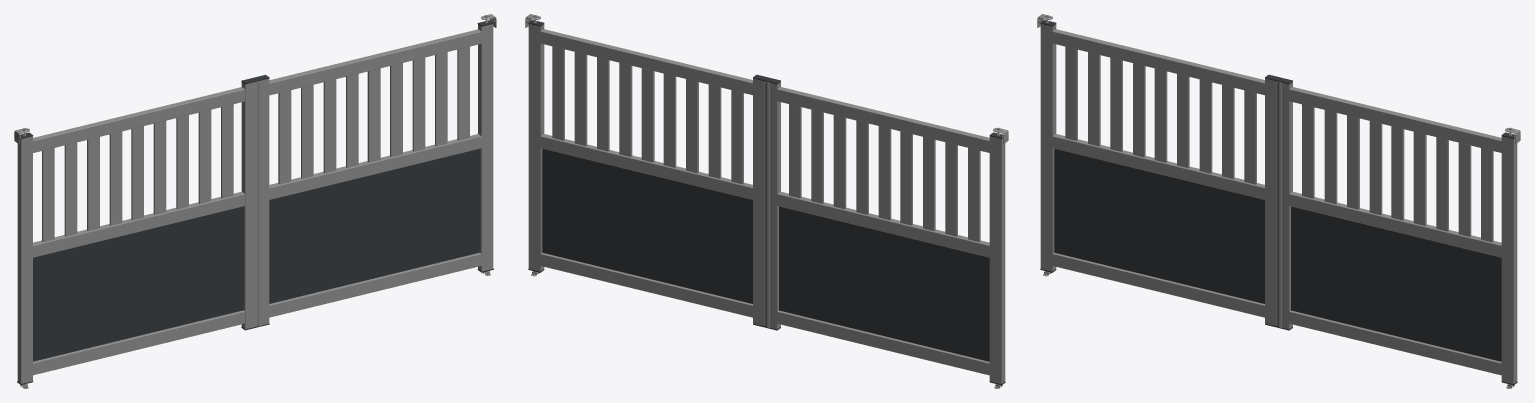
3 views of the same model, side by side, from view 1: azimuth 30°, elevation 25°; view 2: azimuth 150°, elevation 25°; view 3: azimuth 330°, elevation 25° (orthographic).
Parts seen in each view (by area): view 1: Chapa Alucobond028, Chapa Alucobond042, Shape107412643, Shape107412740, Shape107412638, Shape107412804, Shape107412686, travessa_central_ladoA002, travessa_central_ladoA, Shape107412803, Shape107412685, Shape107412739 (+19 smaller); view 2: Chapa Alucobond028, Chapa Alucobond042, Shape107412643, Shape107412740, Shape107412686, Shape107412804, travessa_central_ladoA, travessa_central_ladoA002, Shape107412685, Shape107412803, Shape107412739, Shape107412638 (+19 smaller); view 3: Chapa Alucobond042, Chapa Alucobond028, Shape107412740, Shape107412643, Shape107412686, Shape107412804, travessa_central_ladoA, travessa_central_ladoA002, Shape107412803, Shape107412685, Shape107412638, Shape107412739 (+19 smaller).
Boxes of the visible parts, x1,y1,x2,y2 form: Chapa Alucobond028: (33, 206, 243, 361); Chapa Alucobond042: (269, 149, 479, 303); Shape107412643: (17, 136, 32, 383); Shape107412740: (478, 24, 493, 271); Shape107412638: (241, 81, 256, 329); Shape107412804: (269, 29, 481, 95); Shape107412686: (33, 87, 244, 152); travessa_central_ladoA002: (269, 134, 481, 199); travessa_central_ladoA: (33, 191, 244, 257); Shape107412803: (269, 252, 481, 317); Shape107412685: (33, 310, 244, 375); Shape107412739: (258, 78, 269, 324); Chapa Alucobond028: (779, 206, 989, 361); Chapa Alucobond042: (542, 148, 752, 303); Shape107412643: (989, 136, 1005, 383); Shape107412740: (528, 24, 544, 271); Shape107412686: (777, 87, 989, 152); Shape107412804: (540, 29, 752, 95); travessa_central_ladoA: (777, 191, 989, 257); travessa_central_ladoA002: (540, 134, 752, 199); Shape107412685: (777, 310, 989, 375); Shape107412803: (540, 252, 752, 317); Shape107412739: (753, 78, 764, 326); Shape107412638: (765, 81, 780, 329); Chapa Alucobond042: (1291, 206, 1501, 361); Chapa Alucobond028: (1054, 149, 1264, 303); Shape107412740: (1501, 136, 1517, 383); Shape107412643: (1040, 24, 1056, 271); Shape107412686: (1052, 29, 1264, 95); Shape107412804: (1289, 87, 1501, 152); travessa_central_ladoA: (1052, 134, 1264, 199); travessa_central_ladoA002: (1289, 191, 1501, 257); Shape107412803: (1289, 310, 1501, 375); Shape107412685: (1052, 252, 1264, 317); Shape107412638: (1265, 78, 1276, 326); Shape107412739: (1277, 81, 1292, 329).
Size of the model in its own units: 3260 by 1688 by 68.93.
5 materials, 2 textured.
